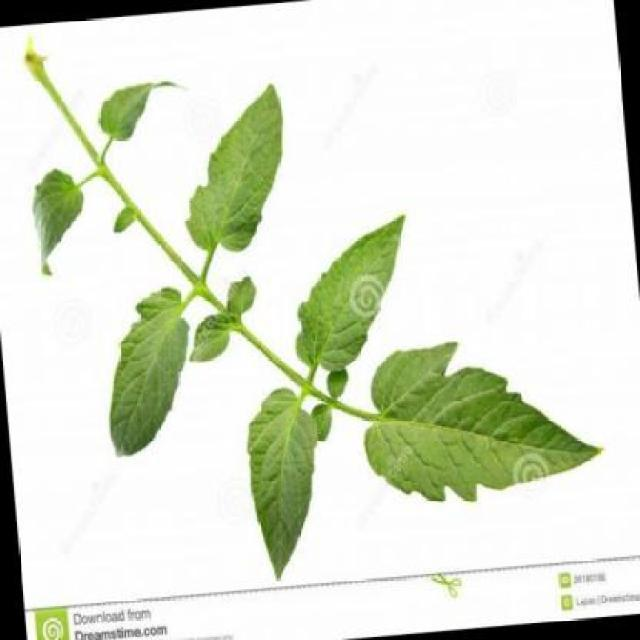Healthy Leaf: (360, 311, 618, 554), (144, 57, 322, 278), (263, 202, 460, 390), (208, 368, 369, 586), (80, 271, 254, 472), (12, 162, 98, 288), (91, 55, 191, 163)
